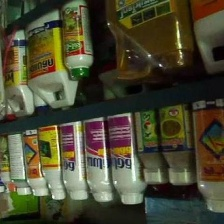insecticide: (101, 0, 196, 84), (23, 5, 83, 113), (102, 106, 147, 206), (190, 93, 223, 216), (153, 98, 197, 189), (82, 106, 117, 205), (0, 26, 36, 121), (55, 110, 91, 202), (133, 101, 171, 188), (57, 0, 94, 83), (37, 120, 66, 202), (18, 123, 49, 199), (5, 125, 31, 199), (0, 126, 19, 194)
